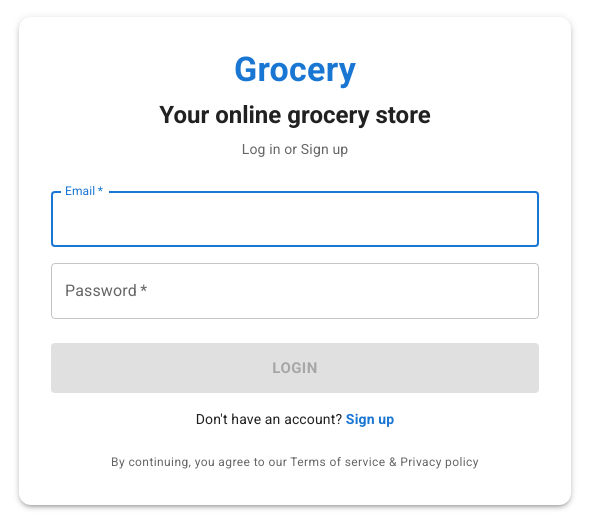
Test: LoginPage Component › enables login button when both email and password are filled
Type "test@example.com" into the field labelled "Email *" at (295, 219), box [51, 191, 539, 247]
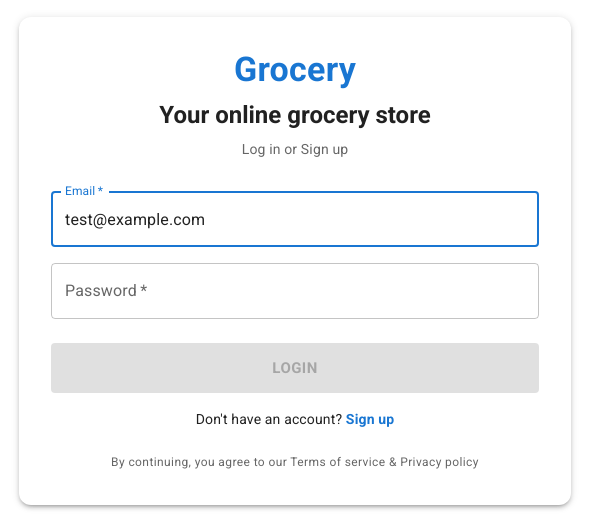
Type "password123" into the password field labelled "Password *" at (295, 291), box [51, 263, 539, 319]
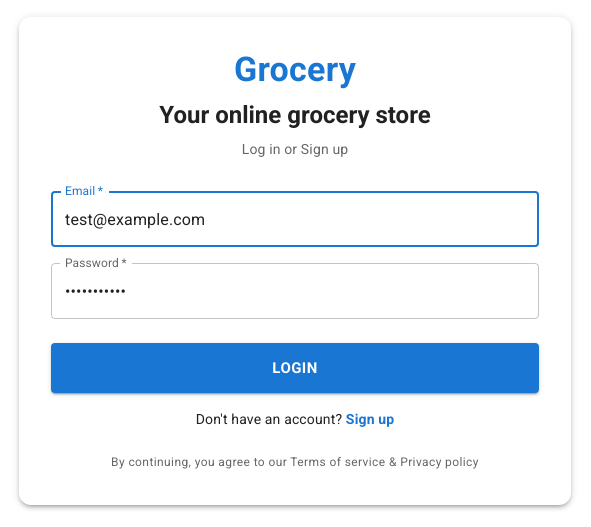
expect the button "Login" is enabled: met, box [51, 343, 539, 393]
